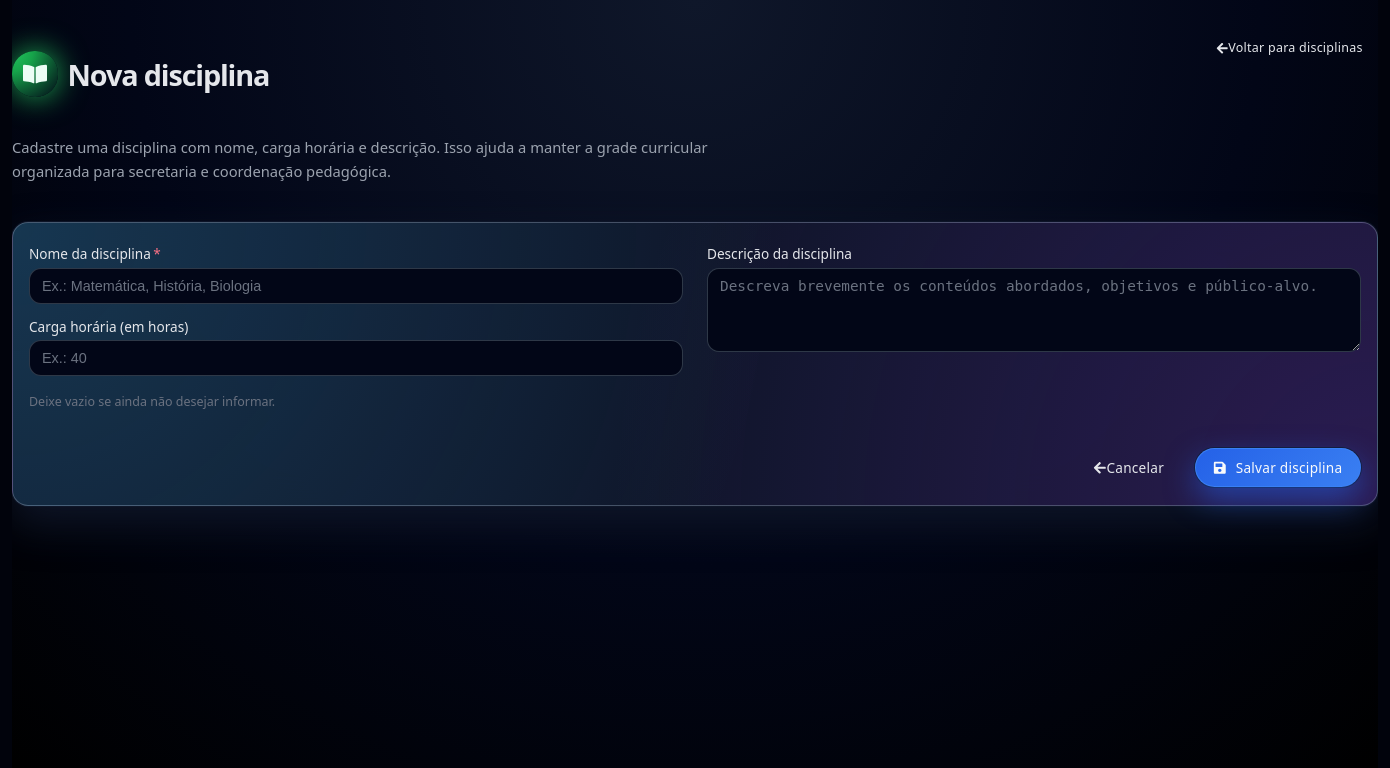
Test: CreateSubjectPage (dashboard) › valida campos obrigatórios e exibe mensagens de erro
The image size is (1390, 768).
What coordinates should you click on to do the following:
click the button "Salvar disciplina"
I would click on:
 (1278, 468)
Its box is [1195,448,1361,487].
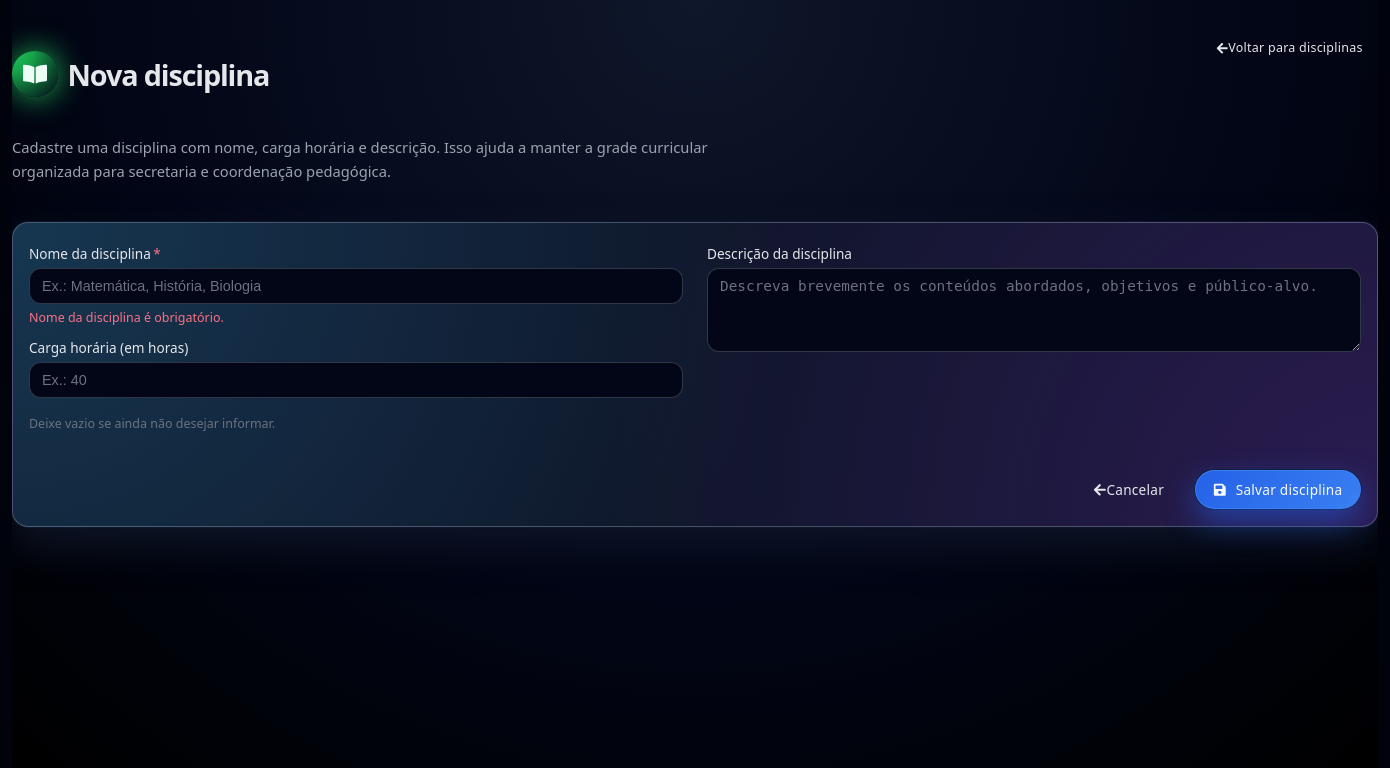
Check: the text "Nome da disciplina é obrigatório." is shown, box [29,309,224,326]
